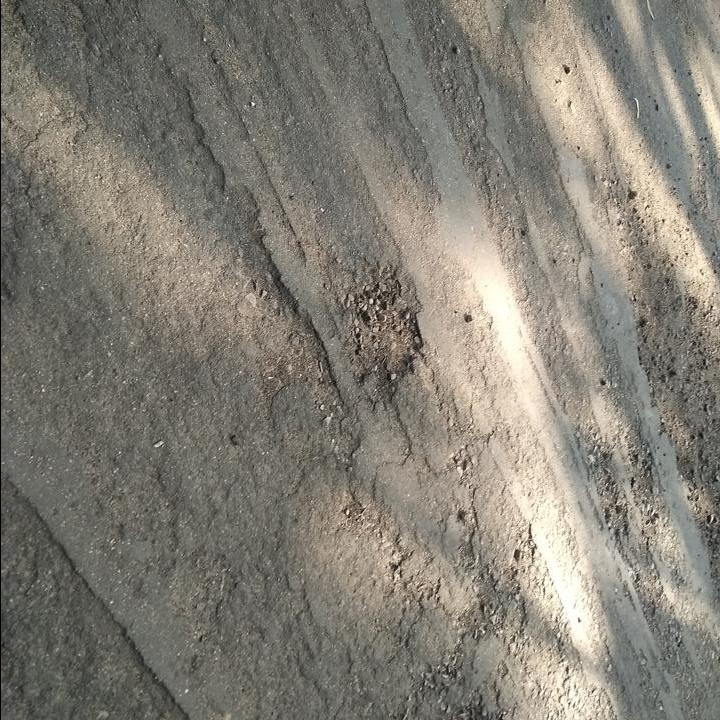pothole: (346, 261, 427, 404)
